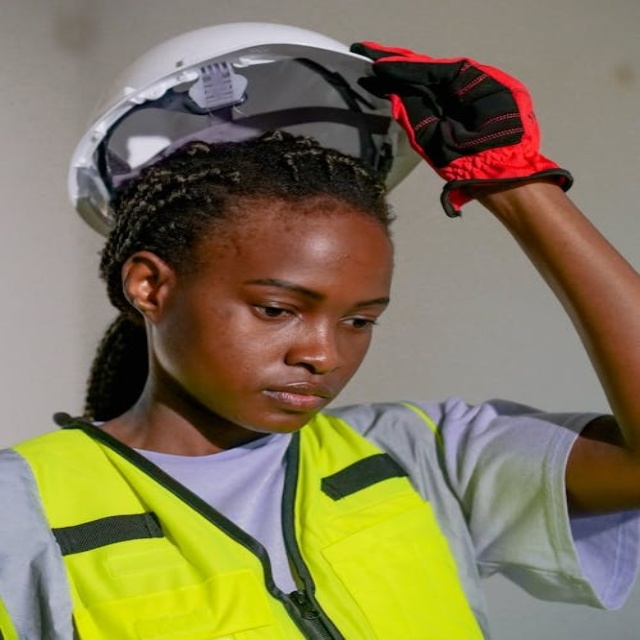Guantes: (347, 43, 573, 217)
Sin_gafas: (233, 276, 388, 341)
Sin_mascara: (236, 372, 335, 430)
